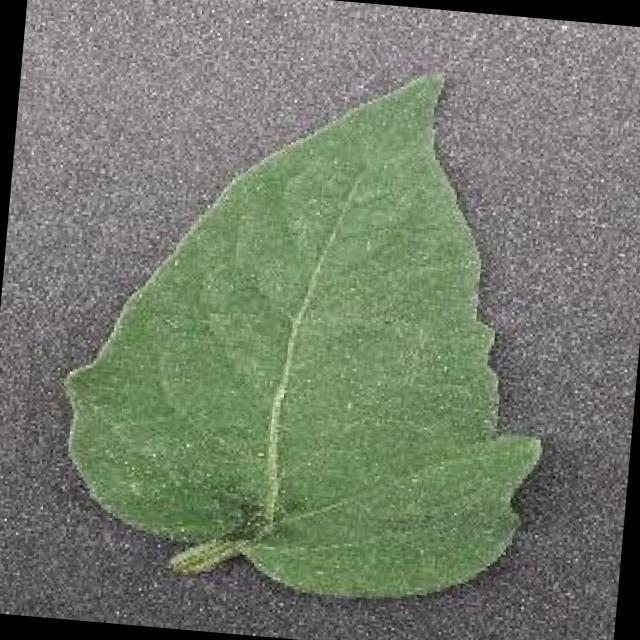Tomato_Healthy: (48, 49, 582, 616)
